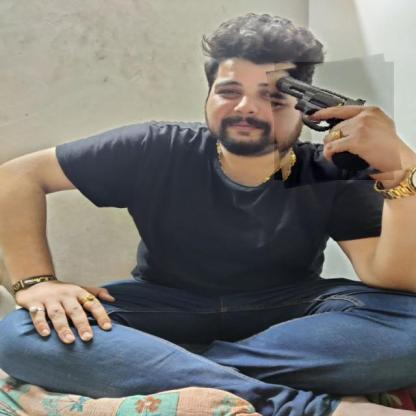handgun: (270, 58, 398, 184)
